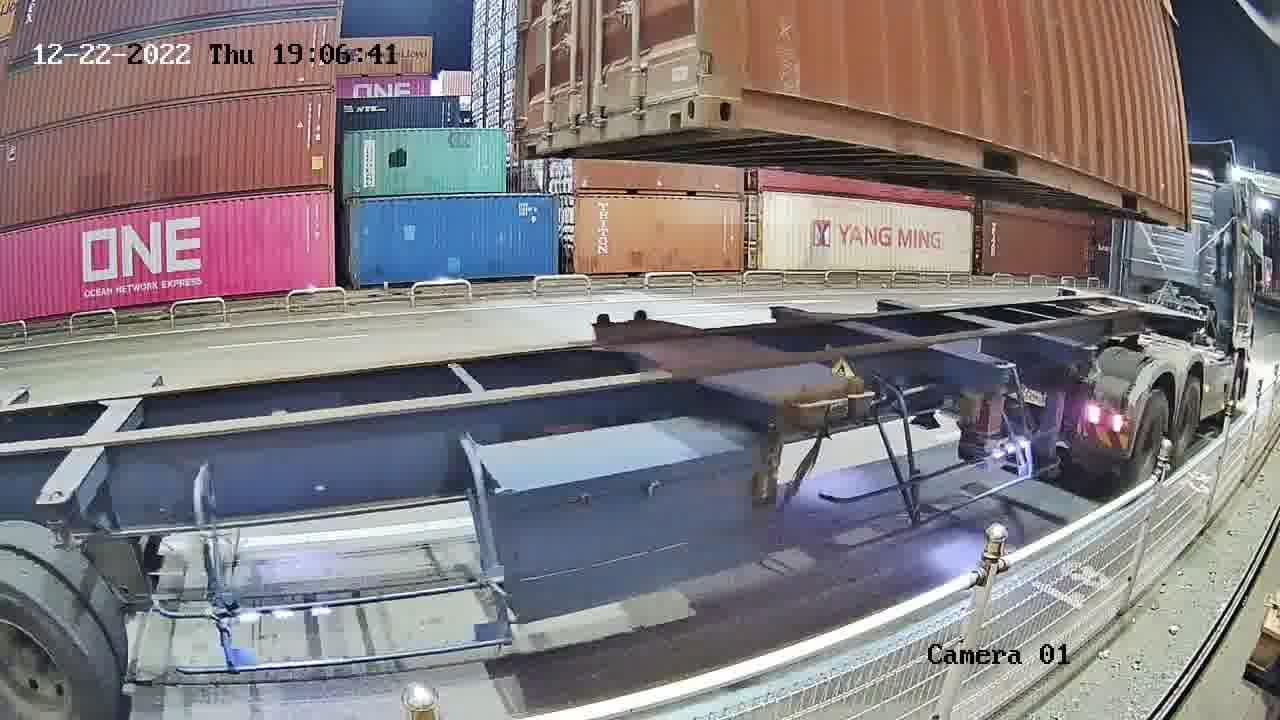Chassis: (590, 323, 831, 420), (630, 319, 879, 407)
Cone: (782, 384, 831, 436), (840, 375, 871, 423), (589, 312, 615, 332), (629, 306, 652, 326)
Hole_L: (702, 58, 777, 132), (512, 111, 553, 159)
Hole_R: (649, 56, 705, 133)
Tire: (1131, 390, 1171, 483), (1175, 379, 1203, 459)
